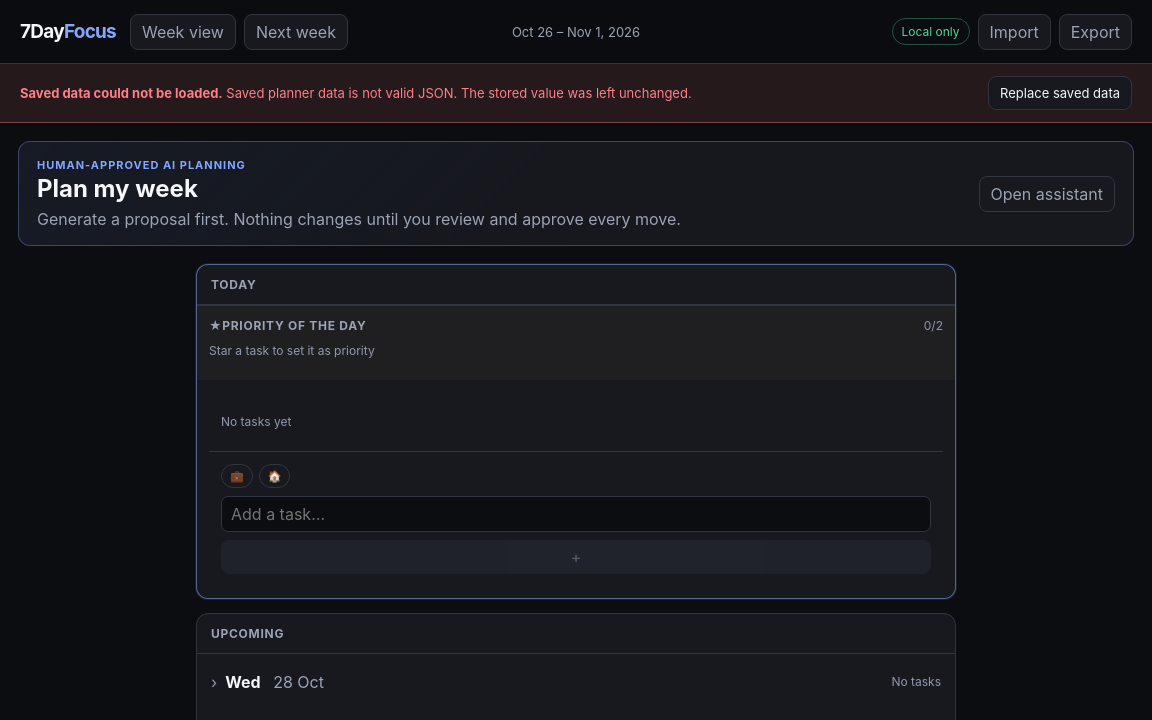
it: P01 local planner smoke flow › does not overwrite unreadable storage without explicit confirmation
Expected: the message shows "Saved data could not be loaded", [20,85,223,101]
Step 1. Click the button "Replace saved data" → click(1060, 93), box [988,76,1132,110]
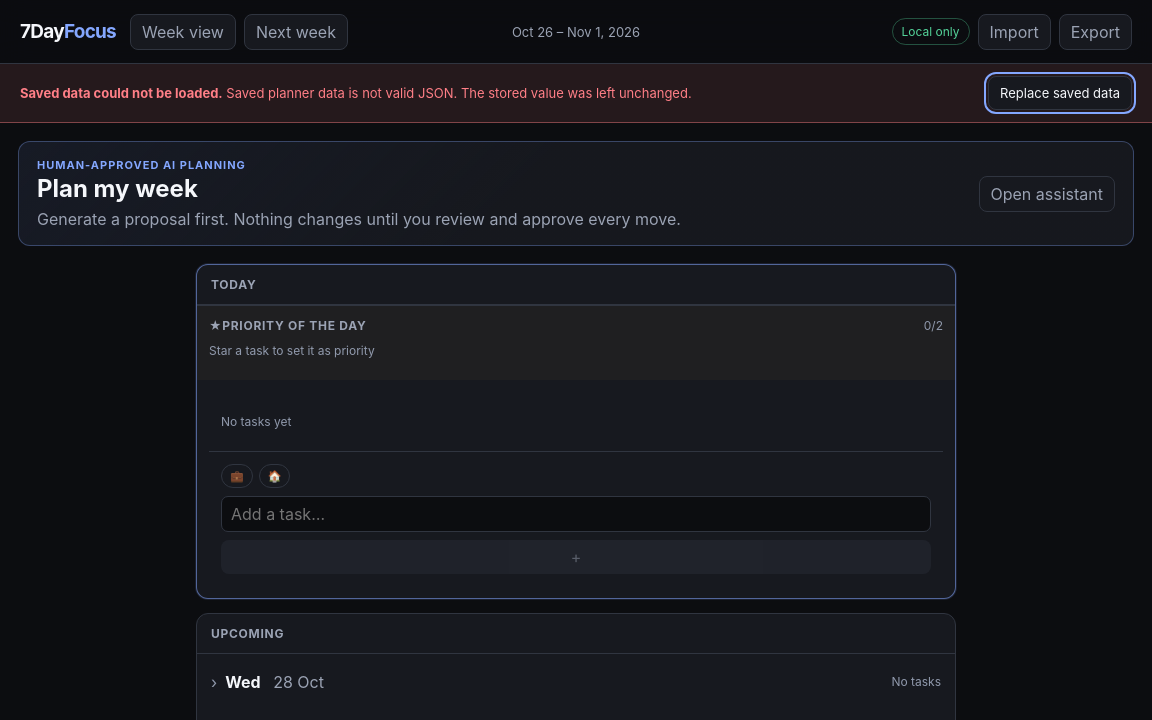
Step 2. Click the button "Replace saved data" → click(1060, 93), box [988,76,1132,110]
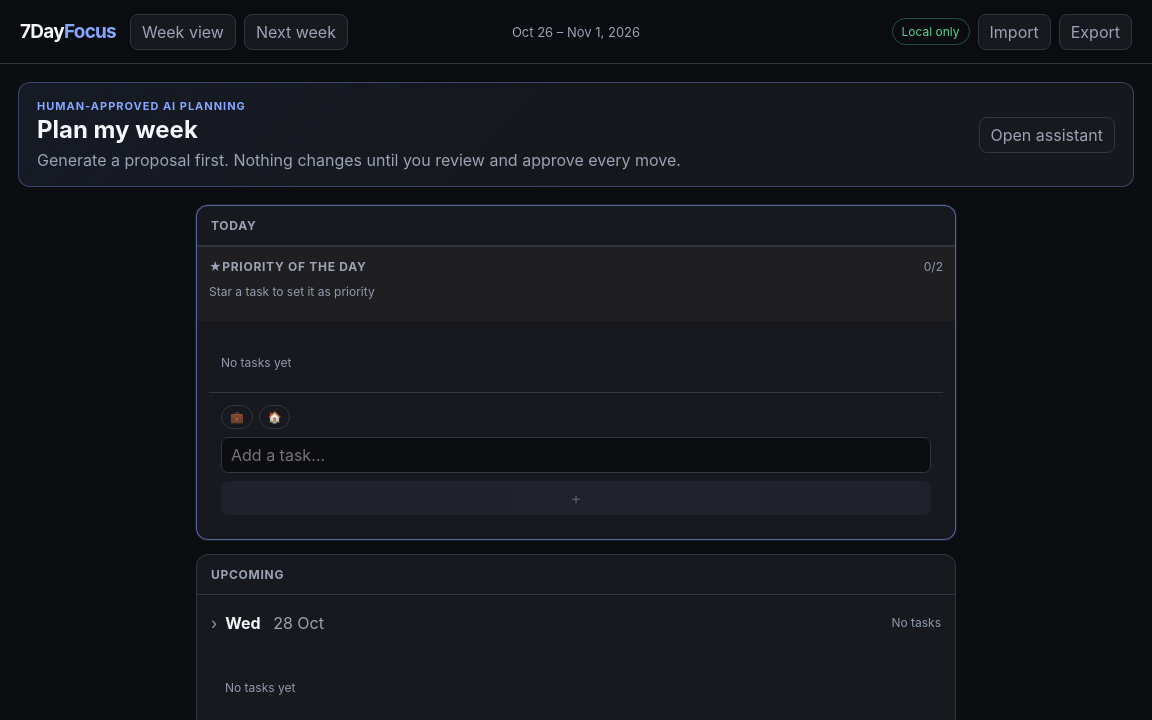
Expected: the message is gone
